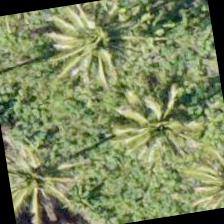Kelapa_Sawit: (105, 74, 208, 176), (16, 0, 118, 93), (4, 136, 81, 223), (174, 135, 223, 214)
